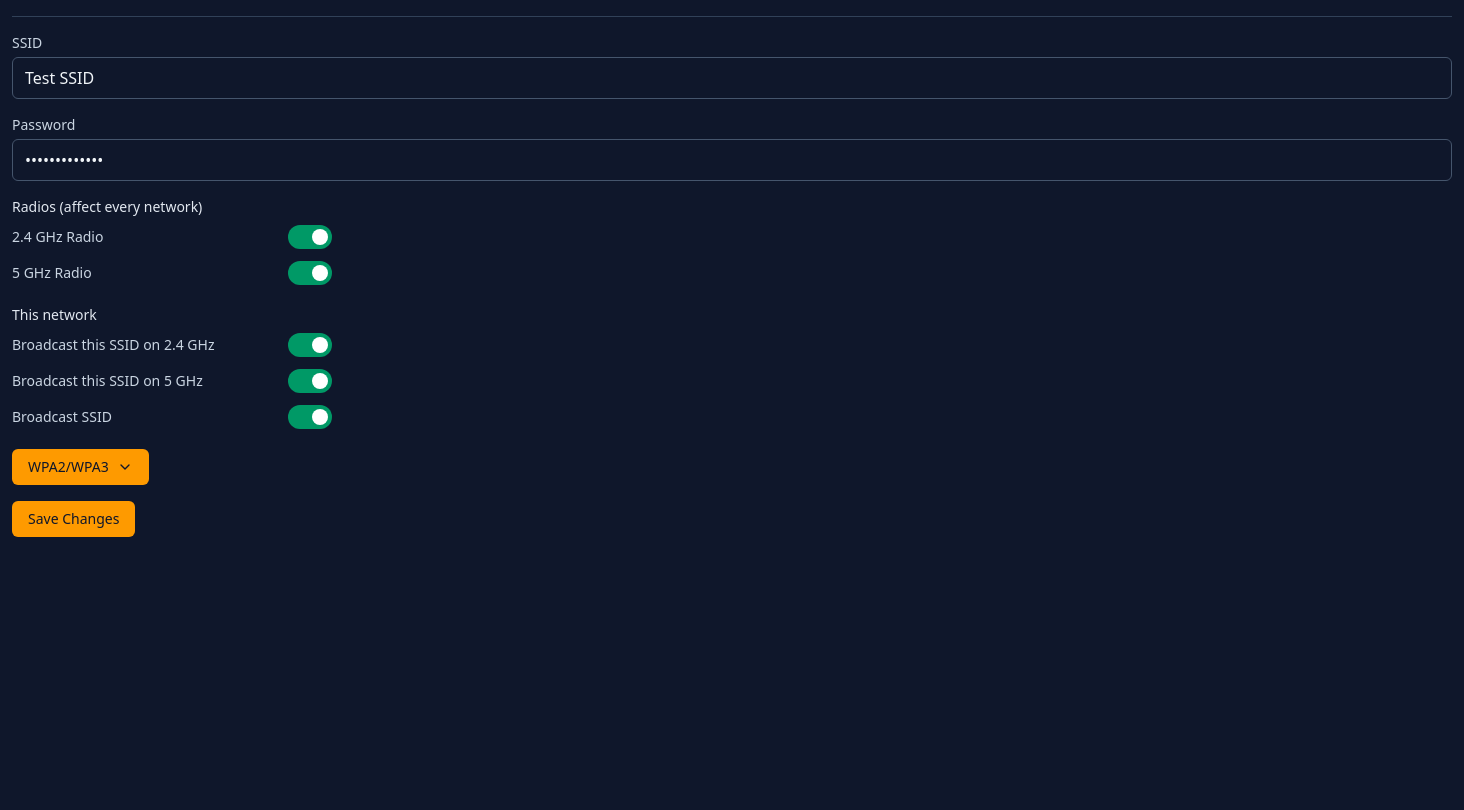
WifiSettings › sends no request when the disable confirmation is cancelled
Click the switch named "5 GHz Radio".
click(310, 273)  # box [288,261,332,285]
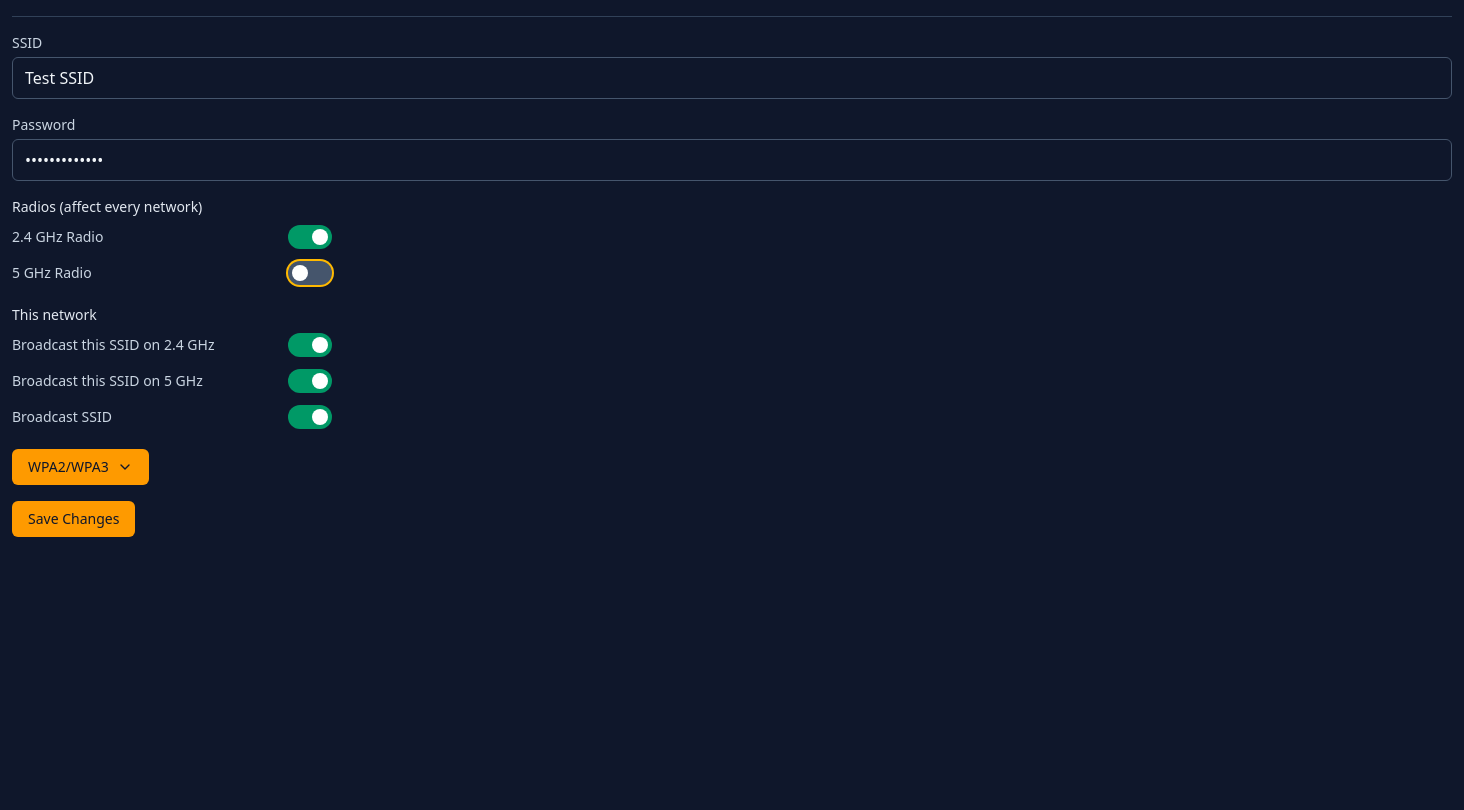
Click the button "Save Changes".
click(74, 519)  # box [12,501,135,537]
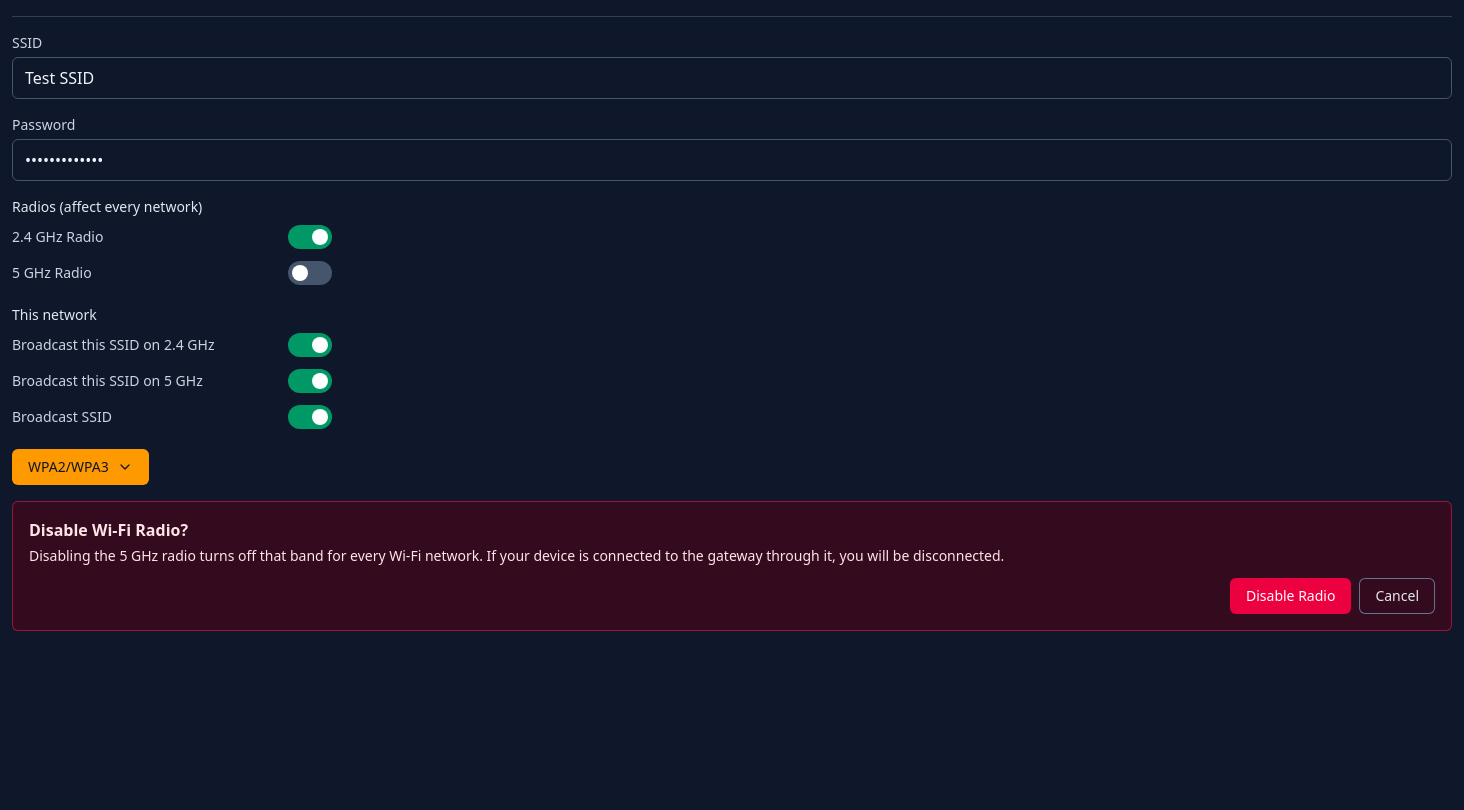
Click the button "Cancel".
click(1397, 596)  # box [1359,578,1435,614]
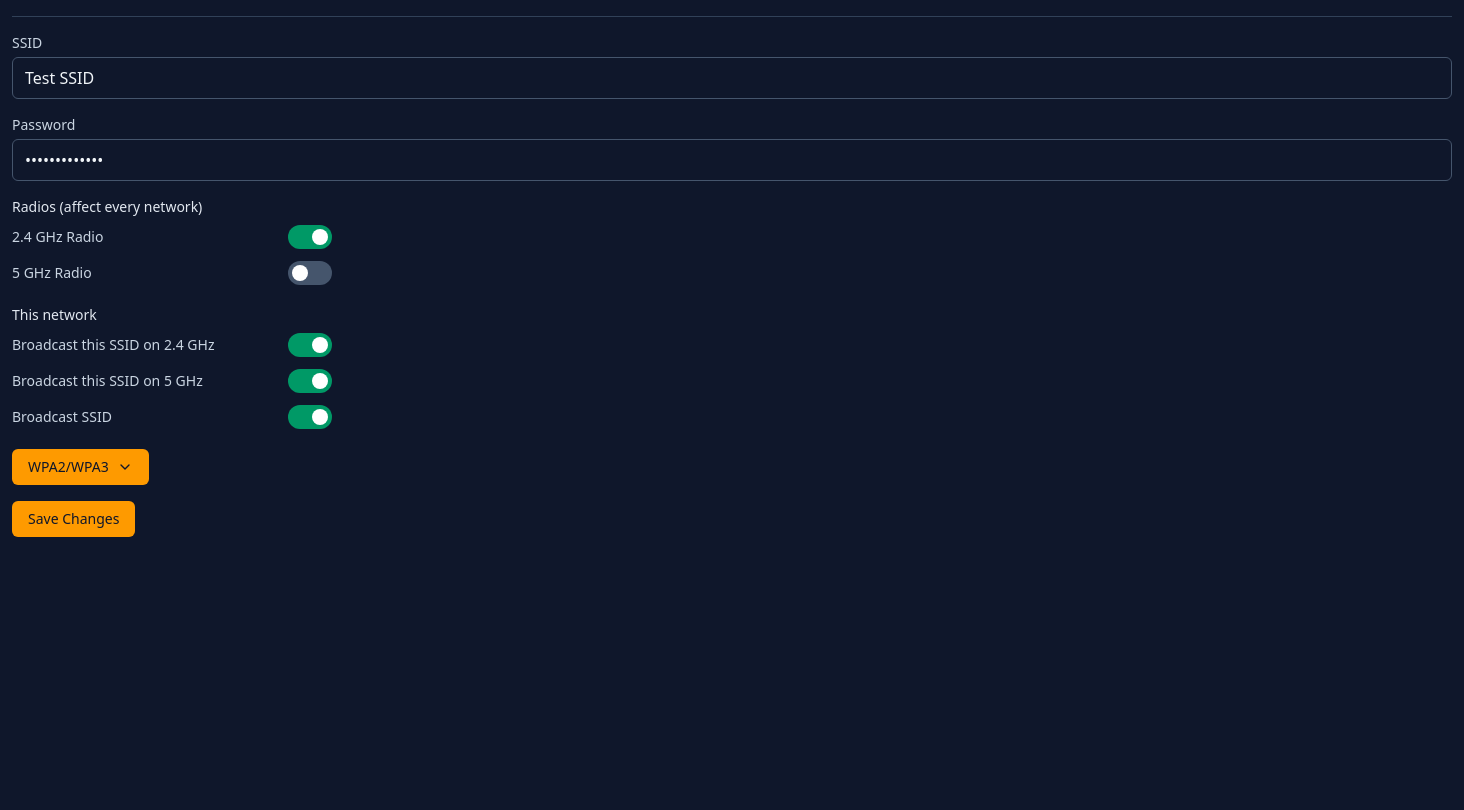
Result: the message is gone
